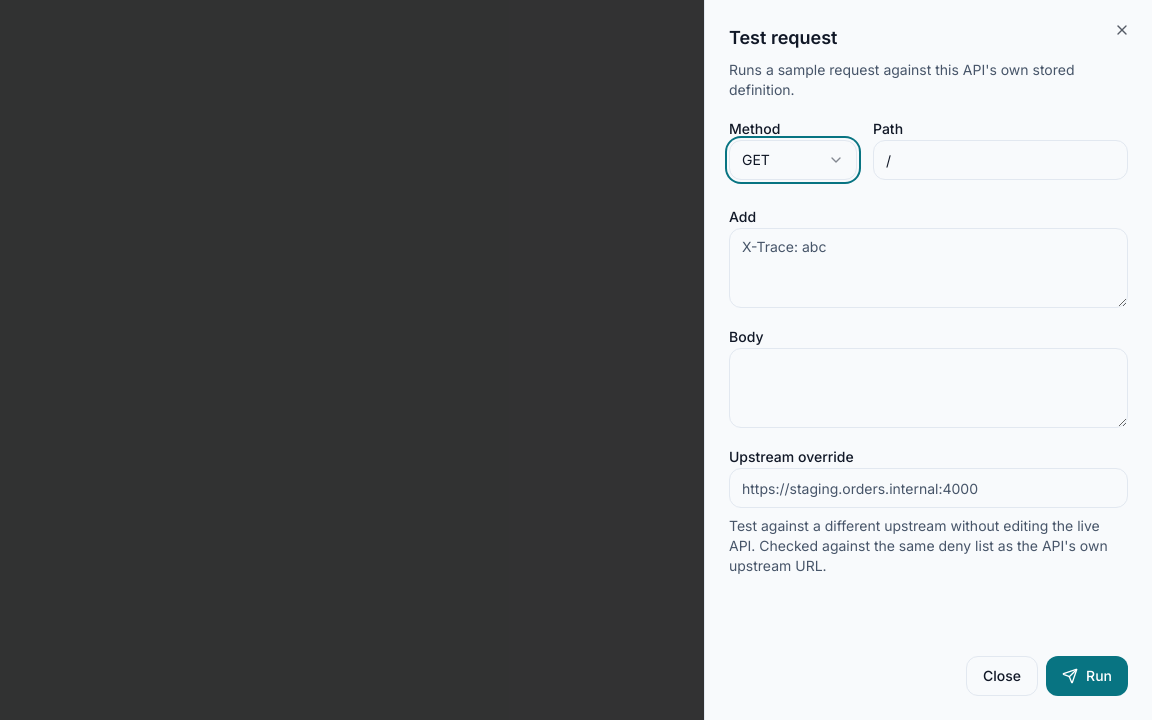
Test: TestRequestSheet › shows the denied-host 400 as an inline error, not a silent failure
The image size is (1152, 720).
Replace the text in the field labelled "Path" with "/x": coordinates (1000, 160) [873,140,1128,180]
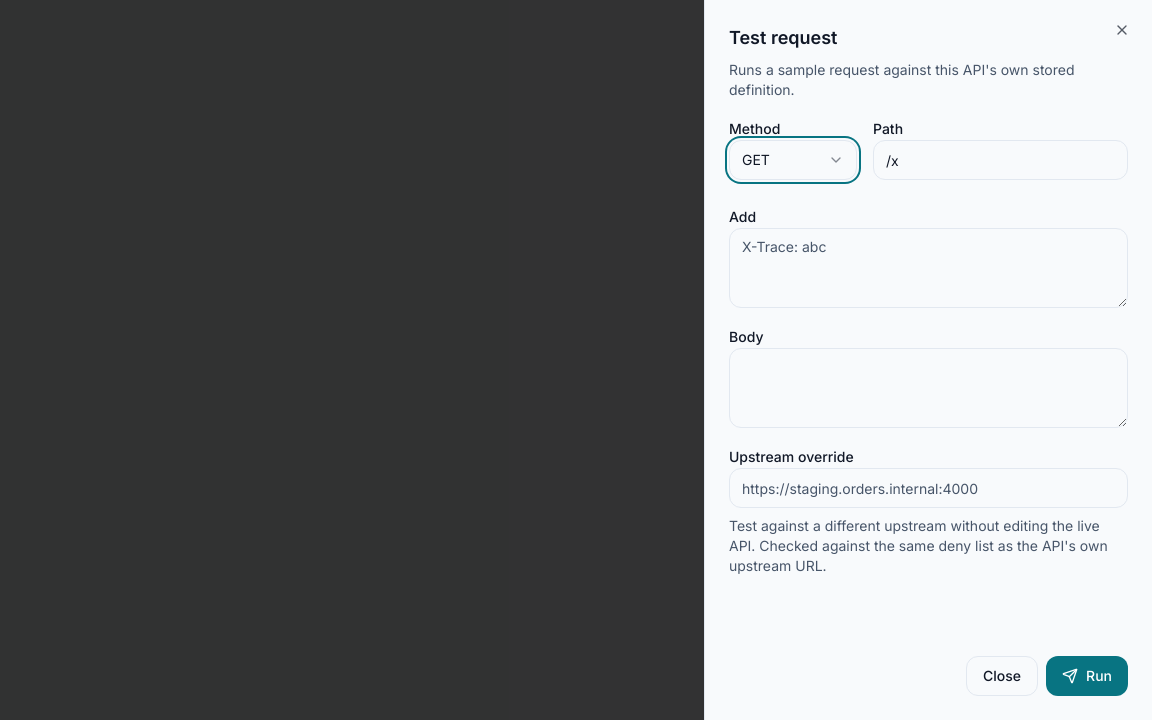
In the field labelled "Upstream override": coordinates (928, 488) [729,468,1128,508], type "http://169.254.169.254"
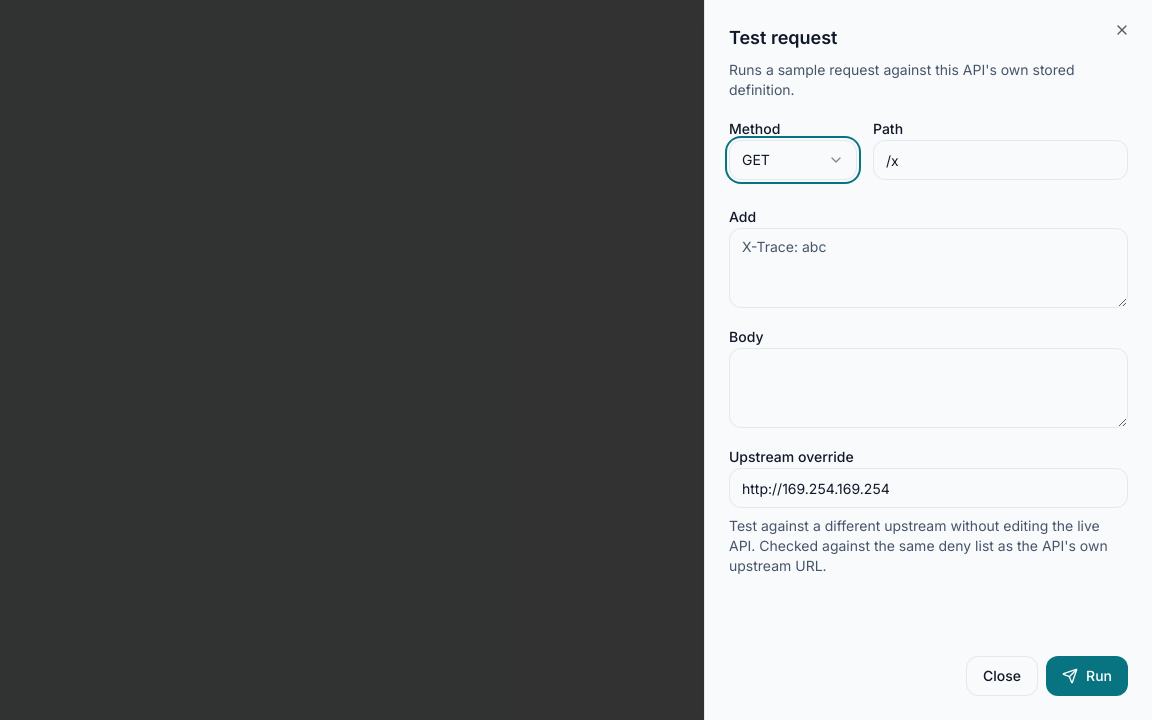
Click the button "Run": coordinates (1087, 676) [1046,656,1128,696]
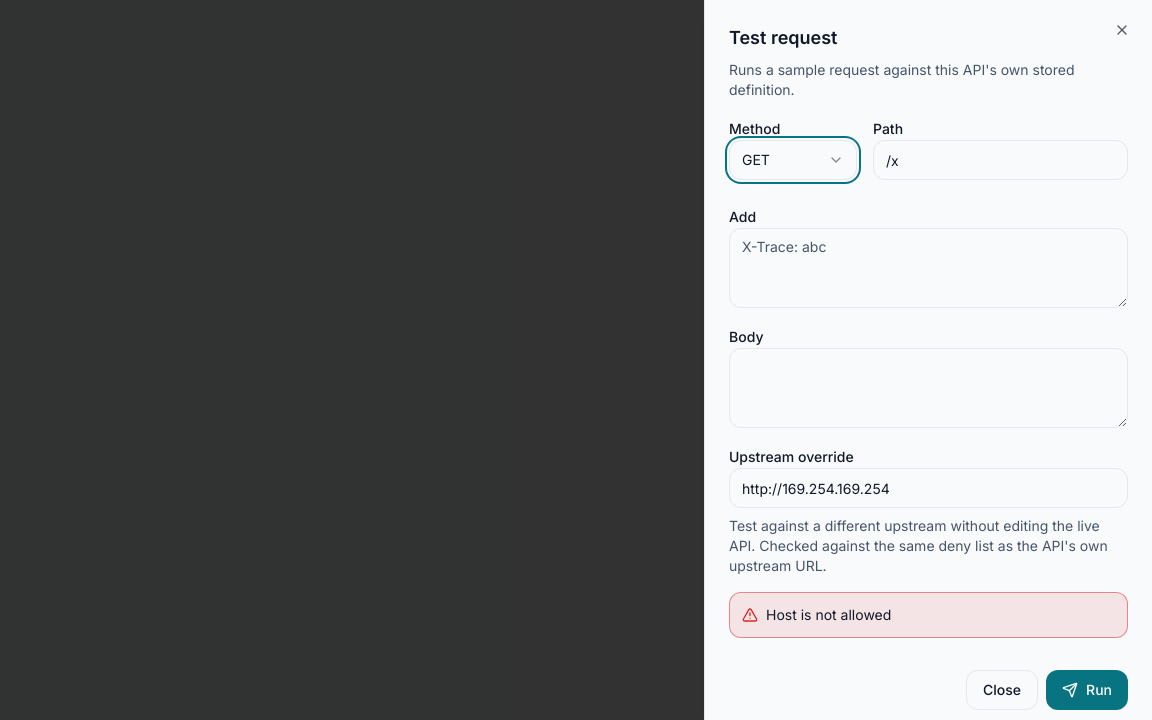
Expected: the message reads "Host is not allowed", [766,606,891,623]
